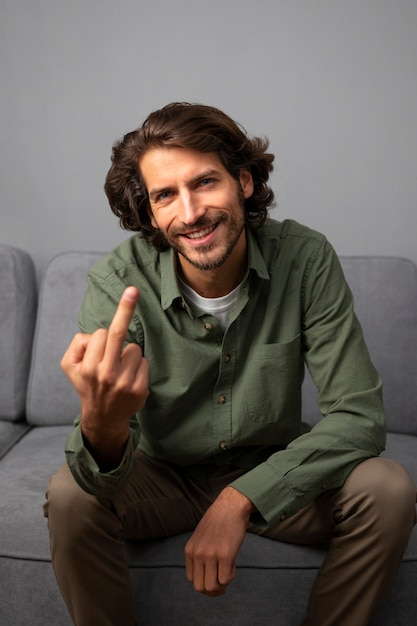insulting_gesture: (57, 283, 152, 439)
